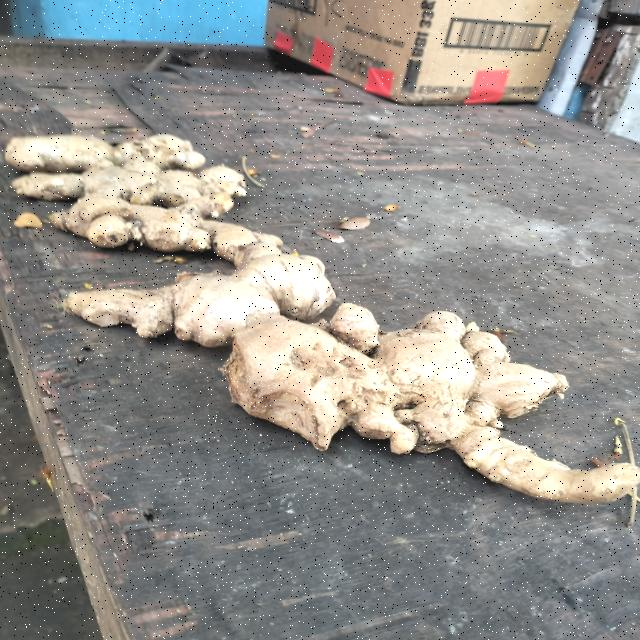ginger: (213, 297, 634, 502), (60, 231, 376, 355), (14, 165, 250, 251), (10, 128, 190, 173)
